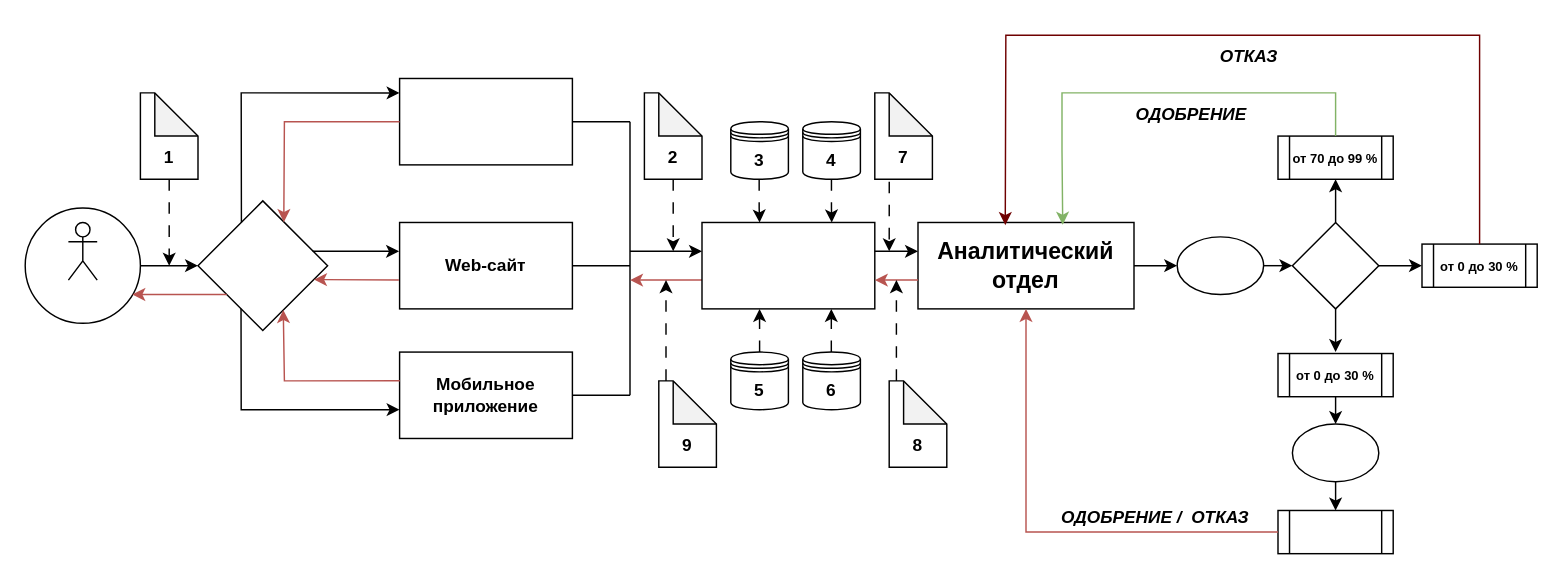
Image size: 1562x579. Some labels were removed from this diagram. The centre of each missing label's shape, as x and y in pixels:
"1 этап" goes at point (1220, 264).
"2 этап" goes at point (1335, 452).
"БПР" goes at point (788, 265).
"КЛИЕНТ" goes at point (82, 250).
"Отделение БАНКА" goes at point (485, 121).
"Оценка" goes at point (1335, 265).
"Ручная оценка" goes at point (1335, 531).
"Точки входа" goes at point (262, 264).
